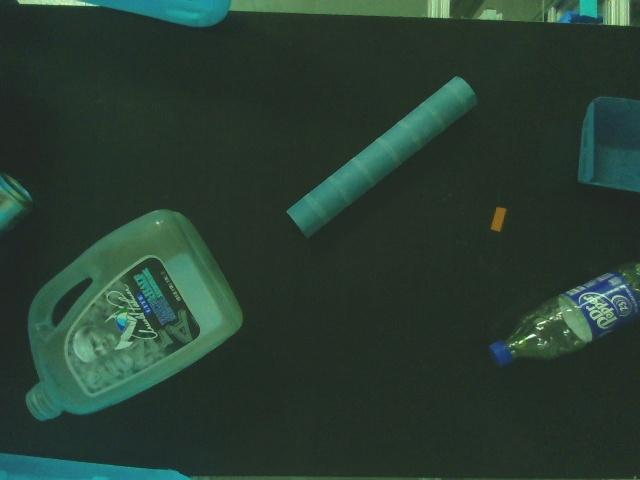cardboard: (286, 72, 480, 242), (576, 93, 640, 195)
metal: (0, 170, 35, 244)
plastic: (21, 204, 247, 430), (486, 251, 640, 372), (489, 205, 509, 234)
